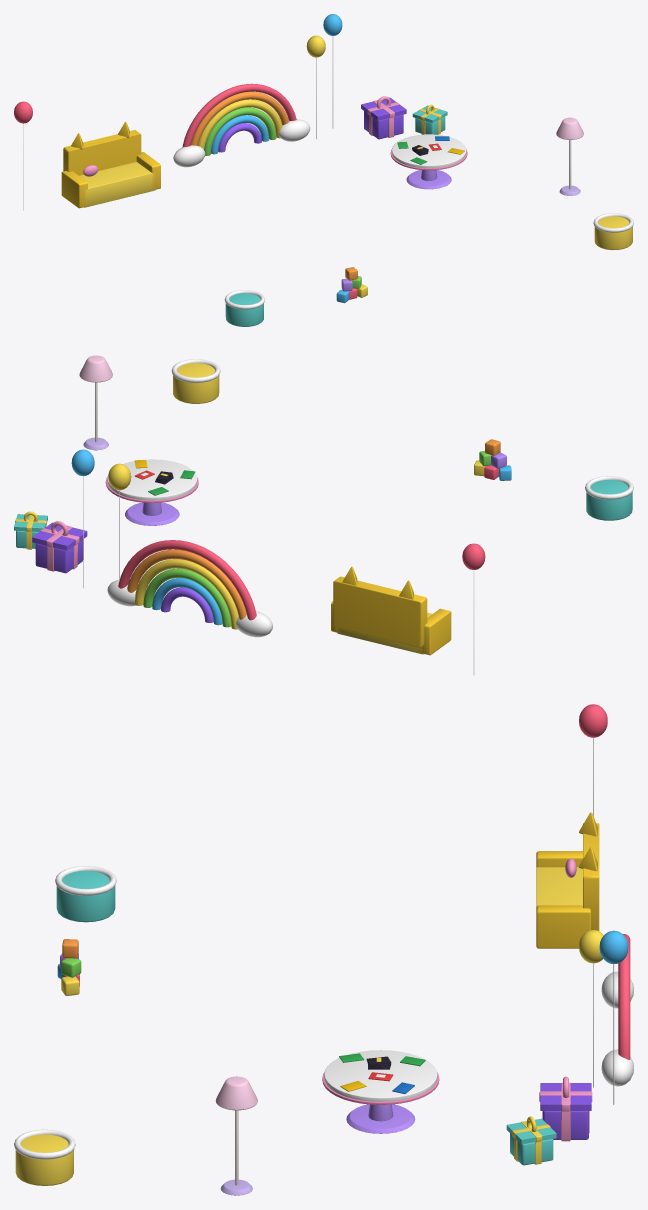
The model's file is decor-foyer.glb.
3 views of the same model, one above another, from view 1: azimuth 30°, elevation 25°; view 2: azimuth 150°, elevation 25°; view 3: azimuth 270°, elevation 25° (orthographic). The views are drawn at different scales.
Visible parts, largest first — view 1: decor-item-rainbow-mesh, decor-item-cat-couch-mesh, decor-item-uno-table-mesh, decor-item-ottoman-teal-mesh, decor-item-ottoman-yellow-mesh, decor-item-floor-lamp-mesh, decor-item-gift-purple-mesh, part-lid-mesh, decor-item-balloon-blue-mesh; view 2: decor-item-rainbow-mesh, decor-item-cat-couch-mesh, decor-item-uno-table-mesh, decor-item-ottoman-teal-mesh, decor-item-ottoman-yellow-mesh, decor-item-gift-purple-mesh, decor-item-floor-lamp-mesh, part-lid-mesh, decor-item-balloon-red-mesh, decor-item-balloon-blue-mesh, decor-item-balloon-yellow-mesh, part-lid.001-mesh; view 3: decor-item-uno-table-mesh, decor-item-cat-couch-mesh, decor-item-ottoman-teal-mesh, decor-item-ottoman-yellow-mesh, decor-item-rainbow-mesh, decor-item-floor-lamp-mesh, part-lid-mesh, decor-item-gift-purple-mesh, decor-item-balloon-blue-mesh, decor-item-gift-teal-mesh, part-lid.001-mesh, decor-item-balloon-red-mesh (+1 smaller).
Boxes of the visible parts, x1=… form: decor-item-rainbow-mesh: x1=173, y1=83, x2=310, y2=167; decor-item-cat-couch-mesh: x1=61, y1=121, x2=160, y2=208; decor-item-uno-table-mesh: x1=390, y1=134, x2=467, y2=189; decor-item-ottoman-teal-mesh: x1=224, y1=290, x2=265, y2=326; decor-item-ottoman-yellow-mesh: x1=593, y1=213, x2=633, y2=250; decor-item-floor-lamp-mesh: x1=556, y1=117, x2=583, y2=195; decor-item-gift-purple-mesh: x1=364, y1=111, x2=403, y2=139; part-lid-mesh: x1=361, y1=96, x2=406, y2=120; decor-item-balloon-blue-mesh: x1=323, y1=14, x2=342, y2=128; decor-item-rainbow-mesh: x1=107, y1=540, x2=272, y2=637; decor-item-cat-couch-mesh: x1=331, y1=566, x2=451, y2=655; decor-item-uno-table-mesh: x1=105, y1=459, x2=198, y2=525; decor-item-ottoman-teal-mesh: x1=585, y1=476, x2=633, y2=520; decor-item-ottoman-yellow-mesh: x1=171, y1=359, x2=220, y2=403; decor-item-gift-purple-mesh: x1=35, y1=539, x2=83, y2=573; decor-item-floor-lamp-mesh: x1=79, y1=355, x2=112, y2=450; part-lid-mesh: x1=32, y1=521, x2=87, y2=550; decor-item-balloon-red-mesh: x1=462, y1=543, x2=485, y2=675; decor-item-balloon-blue-mesh: x1=71, y1=449, x2=94, y2=587; decor-item-balloon-yellow-mesh: x1=108, y1=463, x2=131, y2=579; part-lid.001-mesh: x1=14, y1=511, x2=47, y2=531; decor-item-uno-table-mesh: x1=322, y1=1050, x2=439, y2=1133; decor-item-cat-couch-mesh: x1=536, y1=812, x2=599, y2=948; decor-item-ottoman-teal-mesh: x1=55, y1=866, x2=116, y2=922; decor-item-ottoman-yellow-mesh: x1=14, y1=1129, x2=75, y2=1185; decor-item-rainbow-mesh: x1=601, y1=934, x2=633, y2=1086; decor-item-floor-lamp-mesh: x1=215, y1=1076, x2=257, y2=1195; part-lid-mesh: x1=539, y1=1076, x2=592, y2=1111; decor-item-gift-purple-mesh: x1=542, y1=1111, x2=589, y2=1141; decor-item-balloon-blue-mesh: x1=599, y1=930, x2=628, y2=1104; decor-item-gift-teal-mesh: x1=510, y1=1133, x2=553, y2=1165; part-lid.001-mesh: x1=506, y1=1116, x2=556, y2=1144; decor-item-balloon-red-mesh: x1=579, y1=704, x2=607, y2=816.
Bounding box in the file's own units: 15.55 × 3.88 × 12.21.
